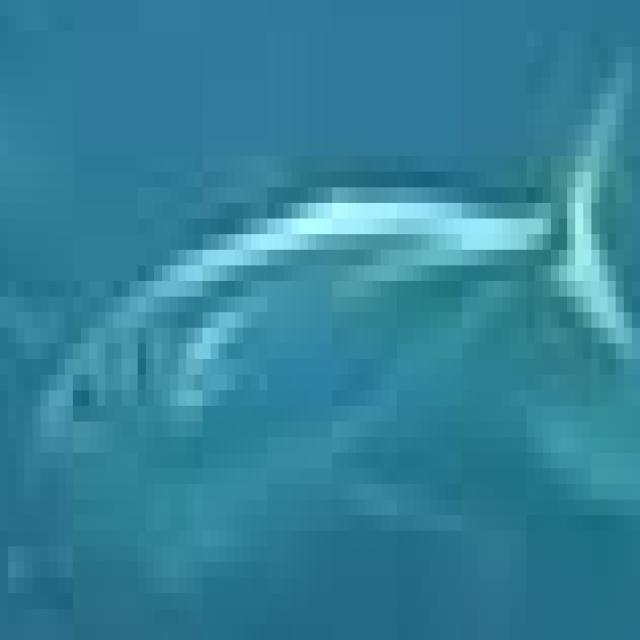fish: (0, 15, 632, 640)
